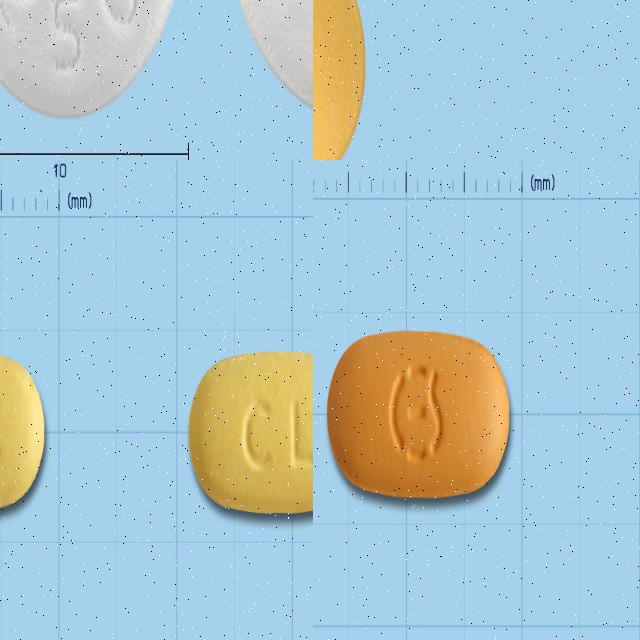Auscle - 500mg: (187, 346, 313, 521), (0, 343, 47, 522)
CTcin: (0, 0, 190, 125), (222, 0, 313, 121)
Clarione -500mg: (326, 325, 514, 507)
